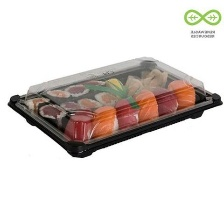plastic_box: (3, 50, 224, 164)
